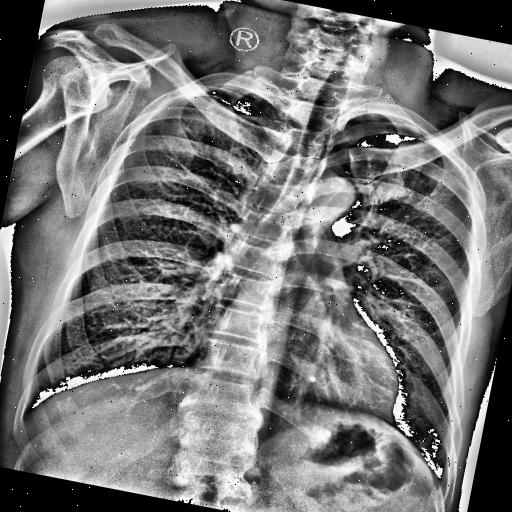0- Aortic enlargement: (313, 174, 357, 216)
11- Pleural thickening: (192, 75, 272, 108), (194, 78, 280, 108), (369, 106, 429, 136), (202, 81, 268, 104)
9- Other lesion: (352, 107, 382, 124)
